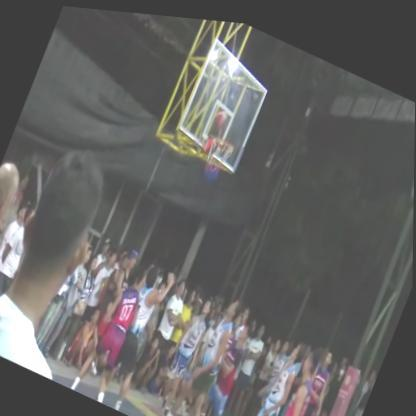basketball: (209, 99, 232, 134)
rim: (191, 118, 241, 189)
